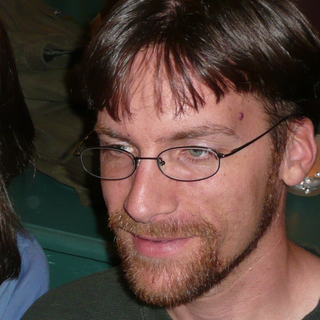eye: (174, 138, 224, 168), (96, 133, 145, 162)
